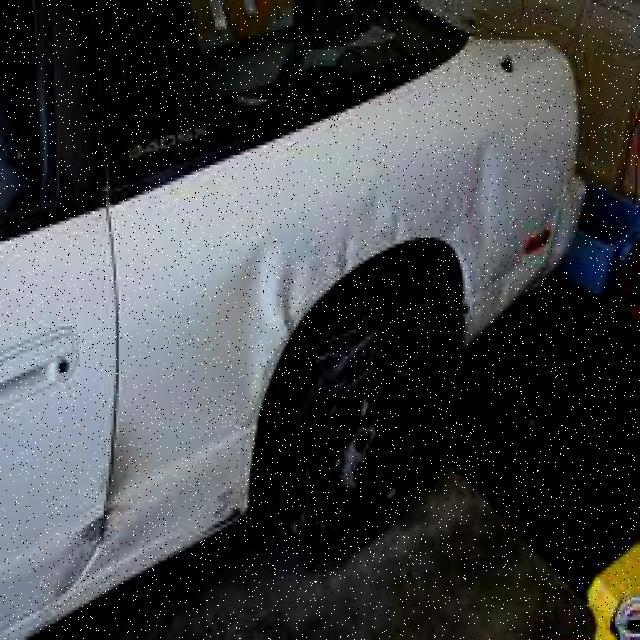car damage: (215, 182, 414, 408), (435, 131, 575, 333), (44, 409, 156, 599), (211, 470, 253, 531)
